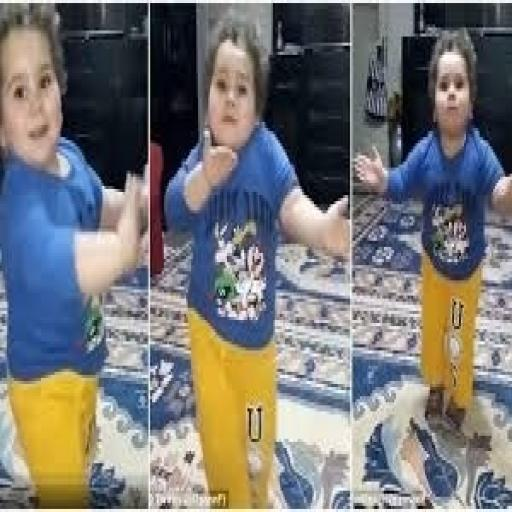dancing: (162, 15, 350, 509), (0, 3, 148, 509)
